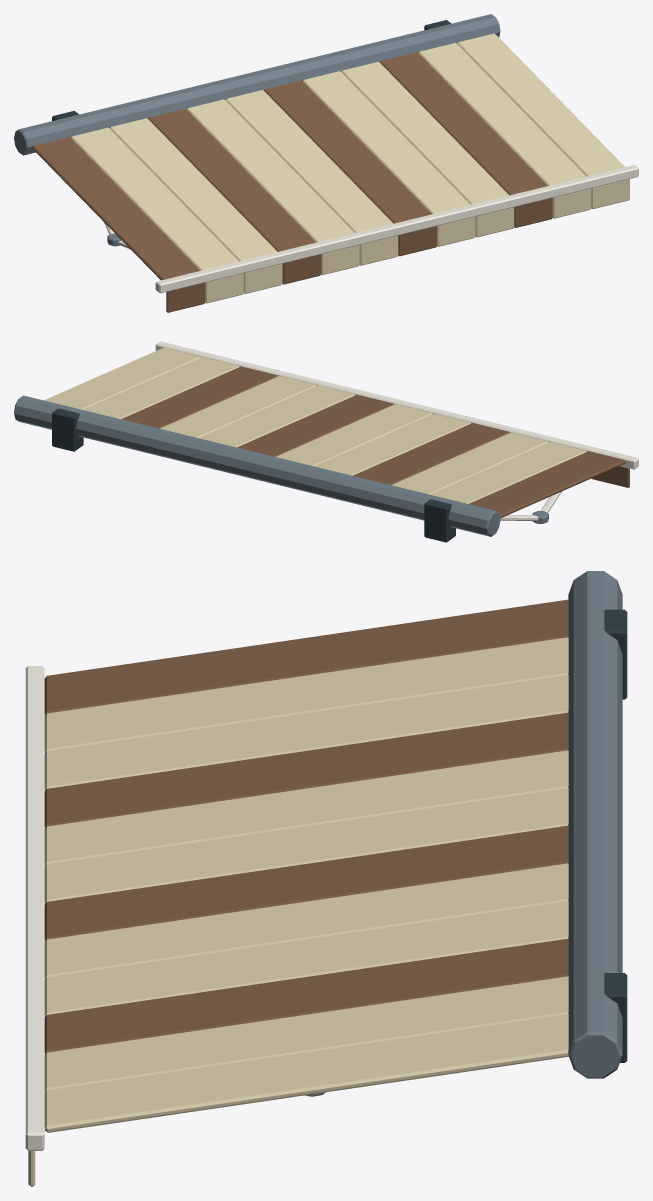
Rendered from b12_retractable_shop_awning.glb.
The picture shows the model from 3 angles, top to bottom: view 1: azimuth 30°, elevation 25°; view 2: azimuth 150°, elevation 25°; view 3: azimuth 270°, elevation 25°; orthographic projection. The views are drawn at different scales.
Parts seen in each view (by area): view 1: b12_retractable_shop_awning; view 2: b12_retractable_shop_awning; view 3: b12_retractable_shop_awning.
Part boxes in pixels (x1,y1,x2,y2): b12_retractable_shop_awning: (14, 14, 638, 312); b12_retractable_shop_awning: (14, 341, 638, 542); b12_retractable_shop_awning: (25, 571, 627, 1186).
Size of the model in its own units: 3.48 by 0.5558 by 1.89.
